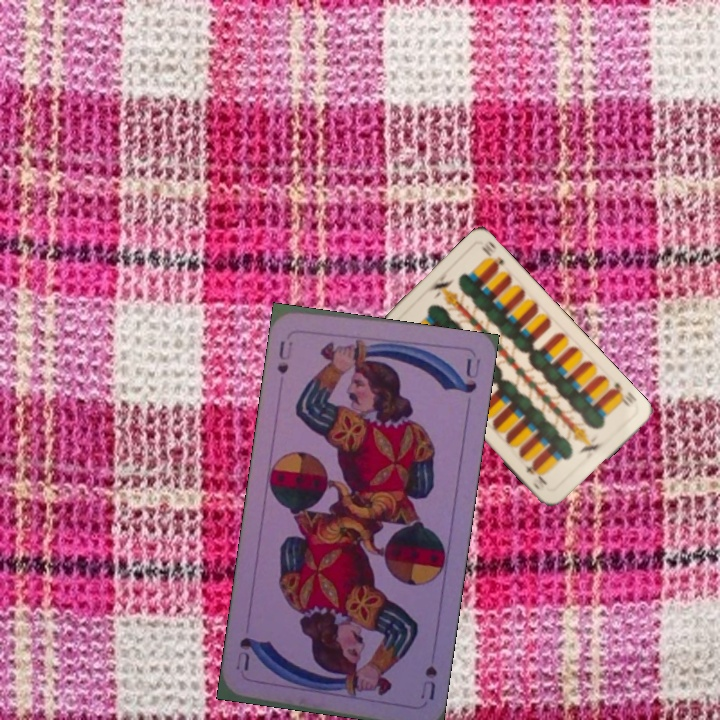E10: (606, 378, 640, 410)
SU: (416, 661, 440, 703), (273, 337, 296, 377)
